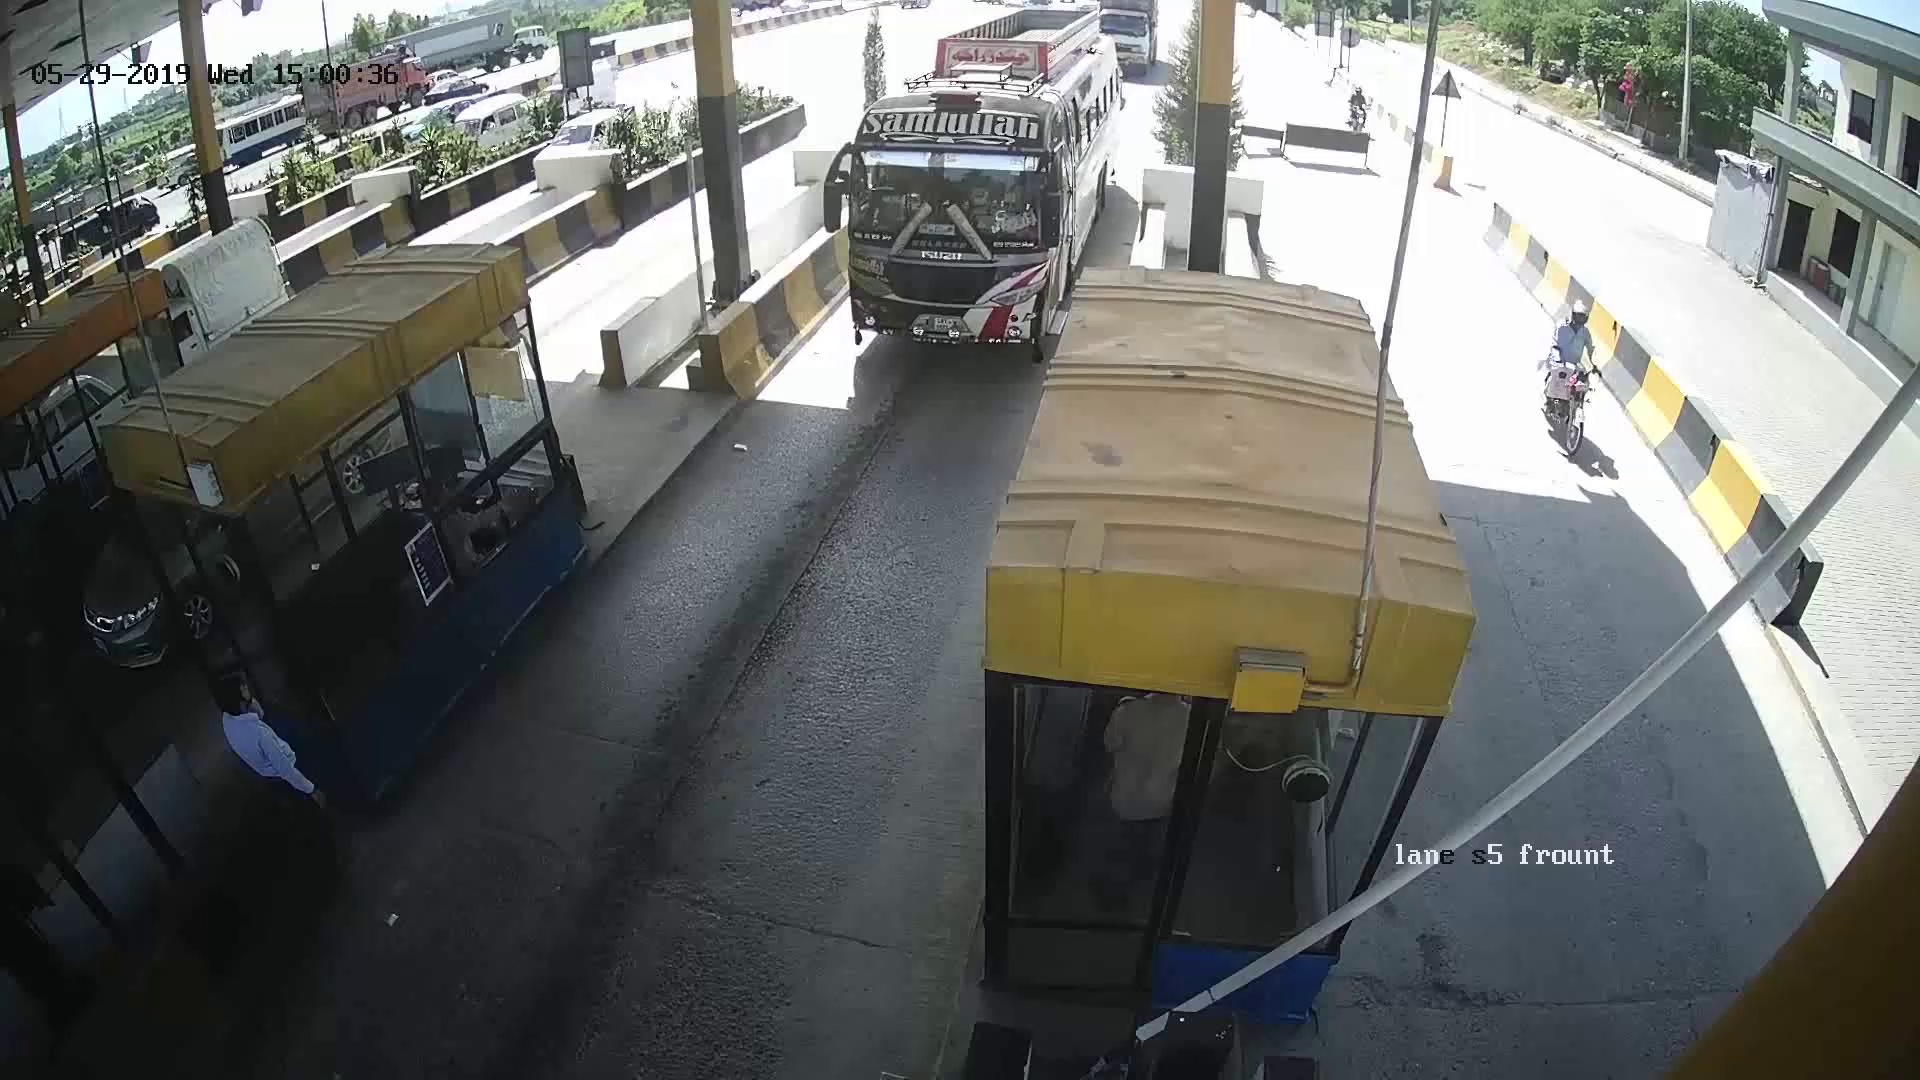bus: (835, 45, 1135, 295)
